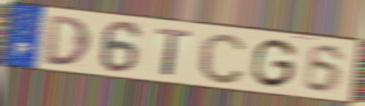6: (99, 20, 144, 75), (301, 44, 348, 95)
C: (196, 31, 249, 86)
D: (43, 13, 93, 68)
G: (249, 37, 299, 90)
T: (154, 26, 194, 78)
